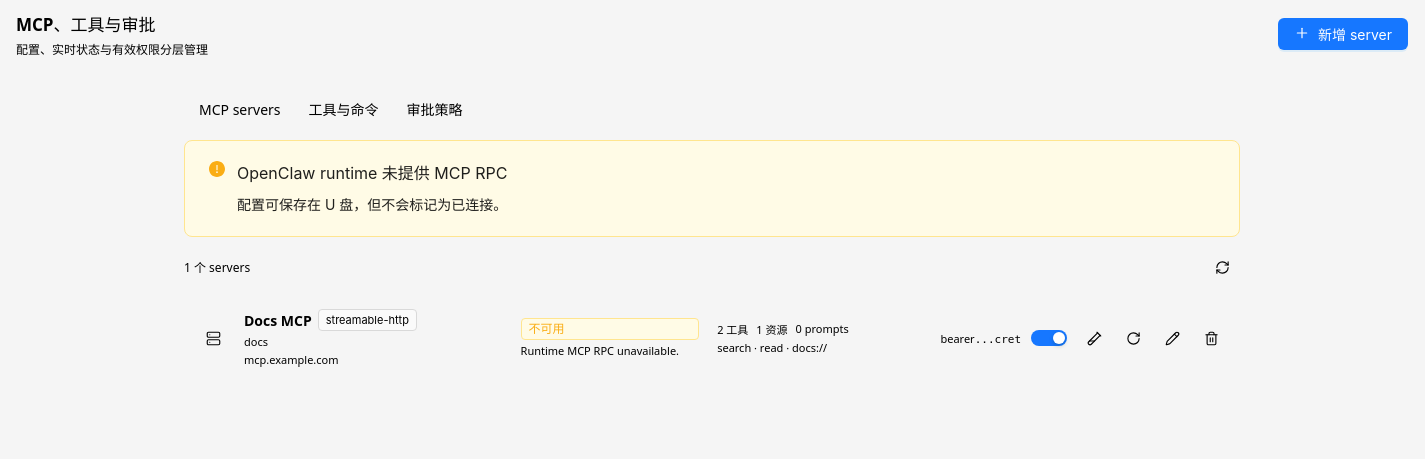
Test: McpManager › reads and writes the authoritative Exec approval policy with base hash
Expected: the text "Docs MCP" is shown, [244,311,312,330]
Step 1. Click the button "审批策略" → click(434, 109), box [394,93,474,125]
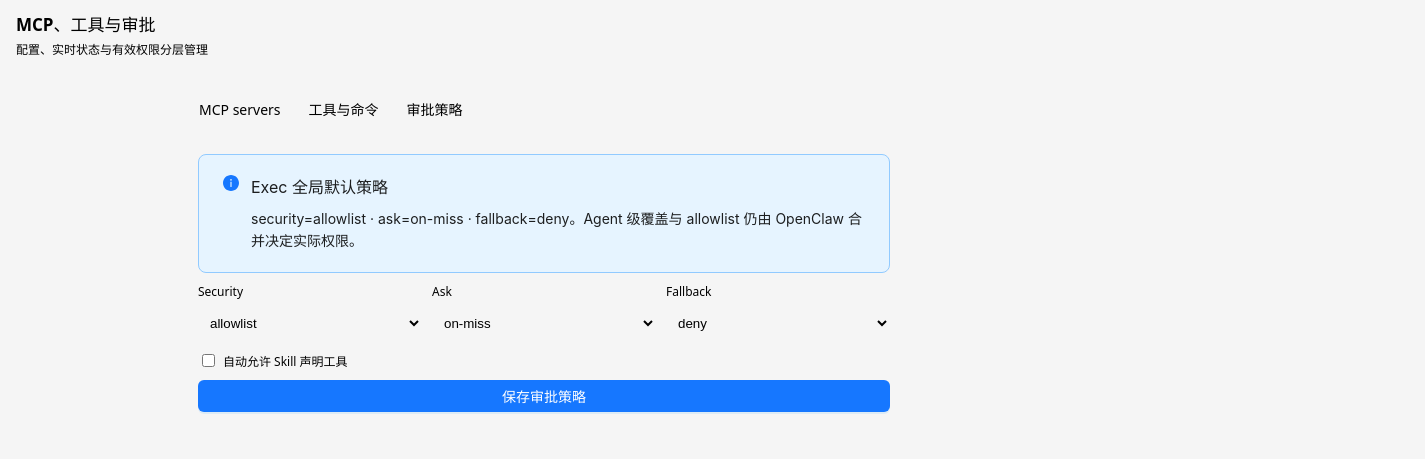
Now the dropdown showing "allowlist" is shown
Step 2. Select "deny" in the dropdown named "Exec security" → (310, 323), box [198,305,422,341]
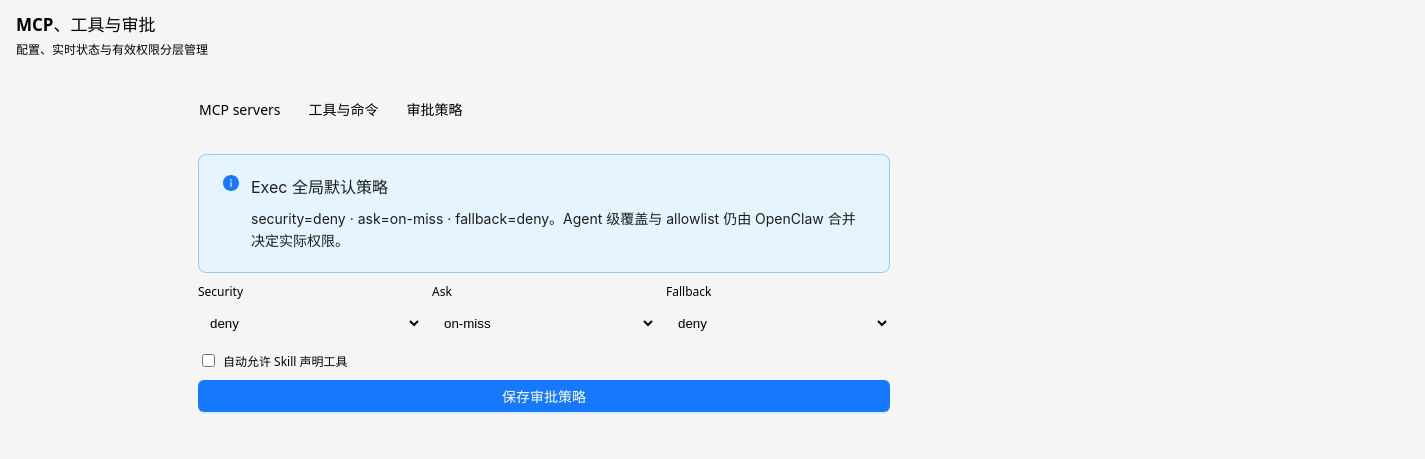
Step 3. Click the button "保存审批策略" → click(544, 396), box [198,380,890,412]
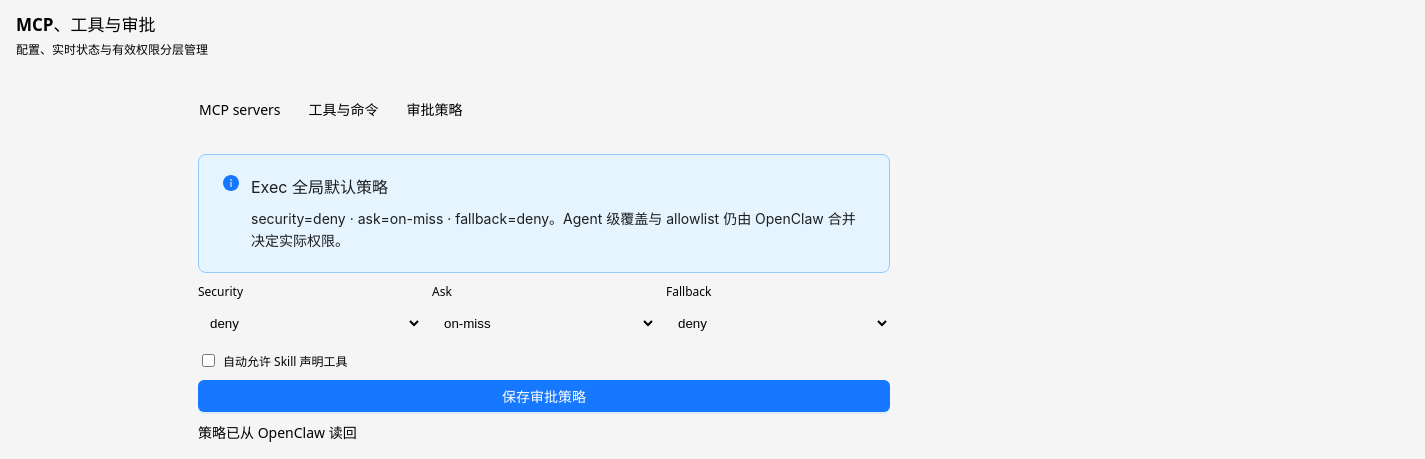
Now the text "策略已从 OpenClaw 读回" is shown, box [198,423,357,442]
